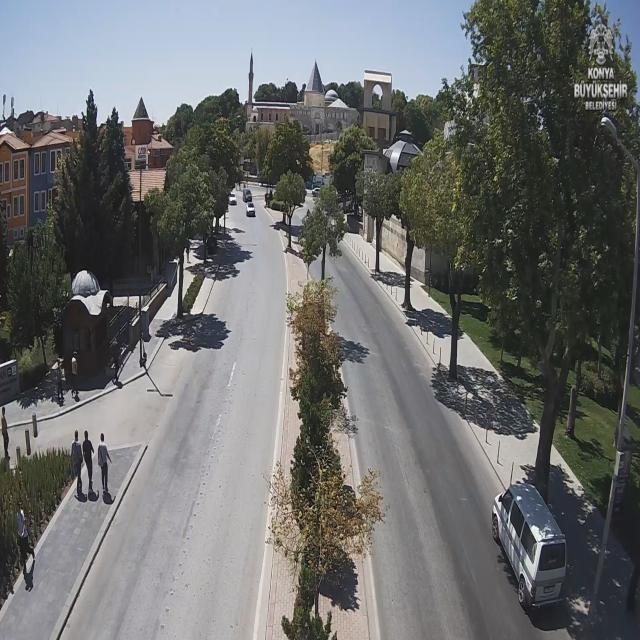Car: (246, 202, 256, 216), (228, 192, 238, 206), (242, 188, 252, 202)
Van: (491, 482, 569, 612)
